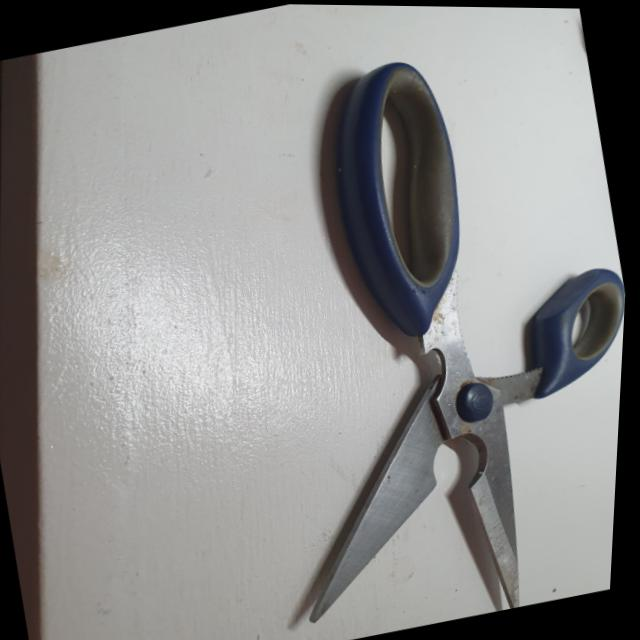scissor: (197, 15, 640, 640)
